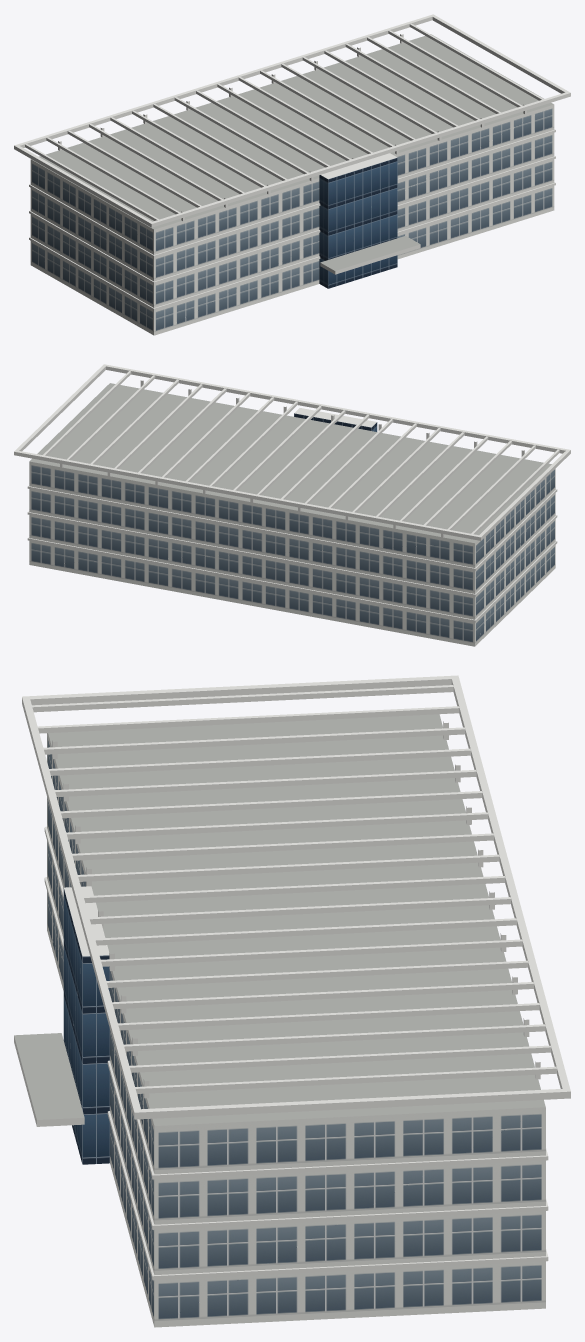
Rendered from guojijiaoyu.glb.
3 views of the same model, one above another, from view 1: azimuth 30°, elevation 25°; view 2: azimuth 150°, elevation 25°; view 3: azimuth 270°, elevation 25° (orthographic). The views are drawn at different scales.
Parts seen in each view (by area): view 1: 国际教育学院; view 2: 国际教育学院; view 3: 国际教育学院.
Part boxes in pixels (bbox=[...]): 国际教育学院: bbox=[14, 14, 570, 335]; 国际教育学院: bbox=[14, 364, 570, 646]; 国际教育学院: bbox=[14, 675, 570, 1327].
Size of the model in its own units: 81.94 by 19.7 by 44.11.
4 materials, 2 textured.
